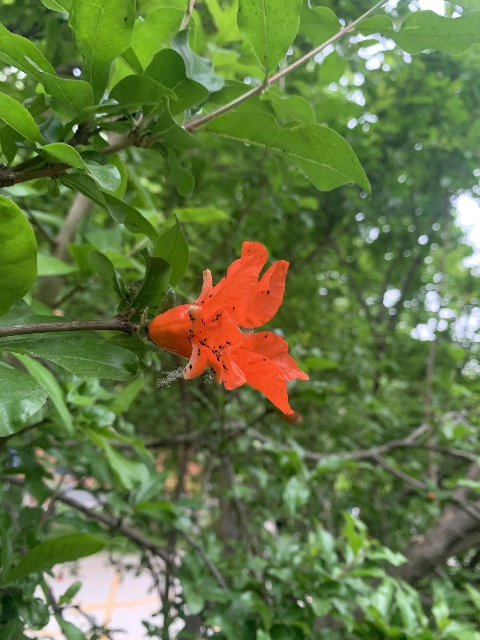flower: (149, 242, 307, 417)
